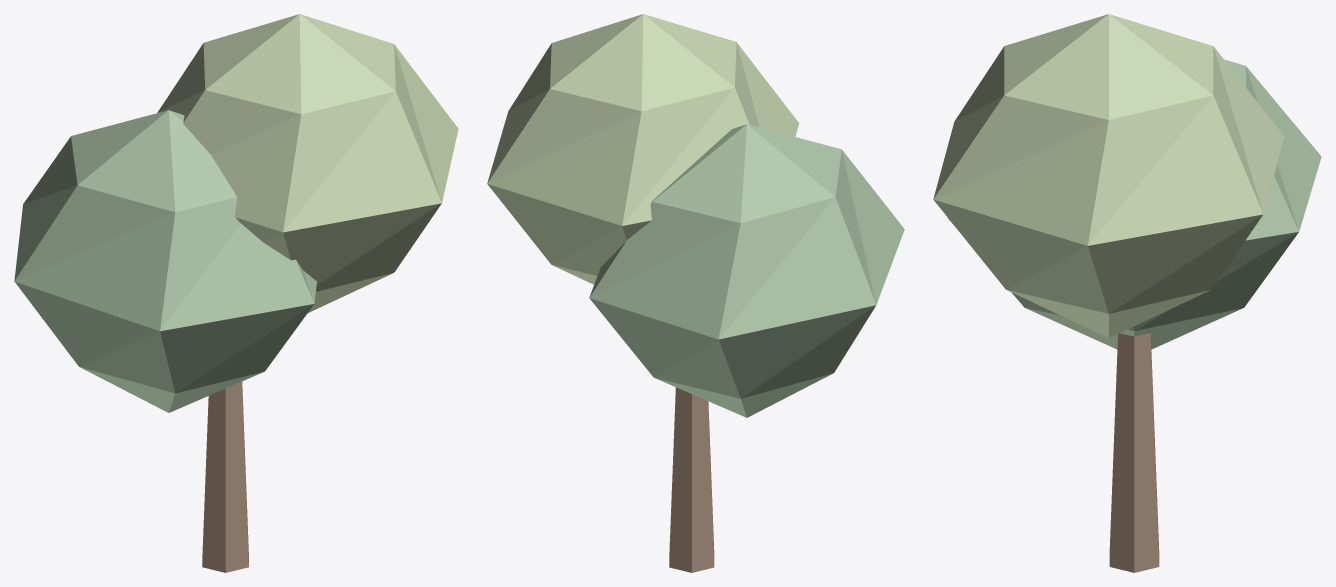
File: tree-oak.glb
The picture shows the model from 3 angles, left to right: view 1: azimuth 30°, elevation 25°; view 2: azimuth 150°, elevation 25°; view 3: azimuth 270°, elevation 25°; orthographic projection. The views are drawn at different scales.
Visible parts, largest first — view 1: tree-oak; view 2: tree-oak; view 3: tree-oak.
Part boxes in pixels (x1=…): tree-oak: x1=14, y1=14, x2=458, y2=572; tree-oak: x1=487, y1=14, x2=904, y2=572; tree-oak: x1=933, y1=14, x2=1321, y2=572.
Bounding box in the file's own units: 7.97 × 10 × 6.08.
